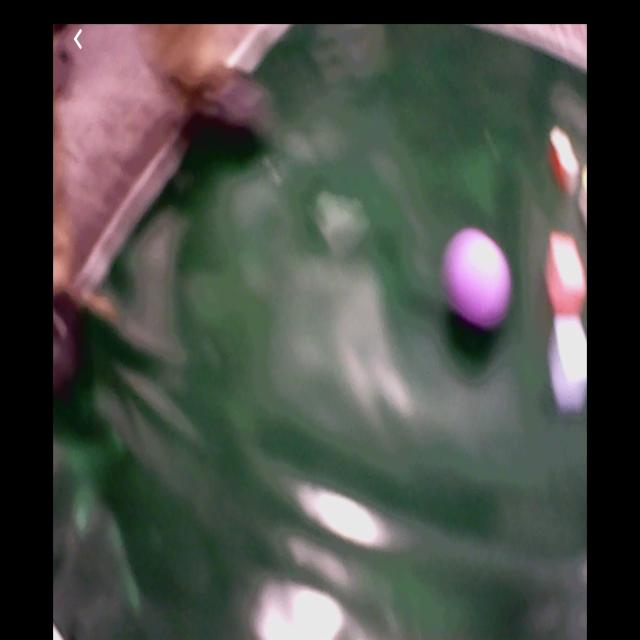ball: (447, 229, 514, 333)
